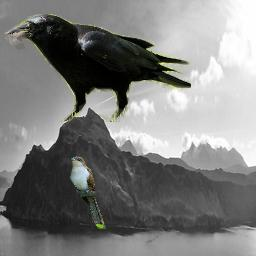Crow: (4, 14, 191, 122)
Cuckoo: (68, 156, 106, 229)
